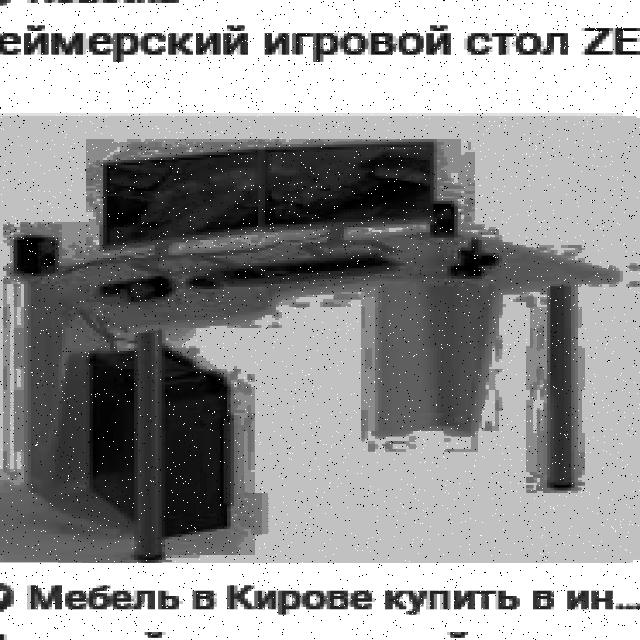table: (10, 227, 609, 558)
